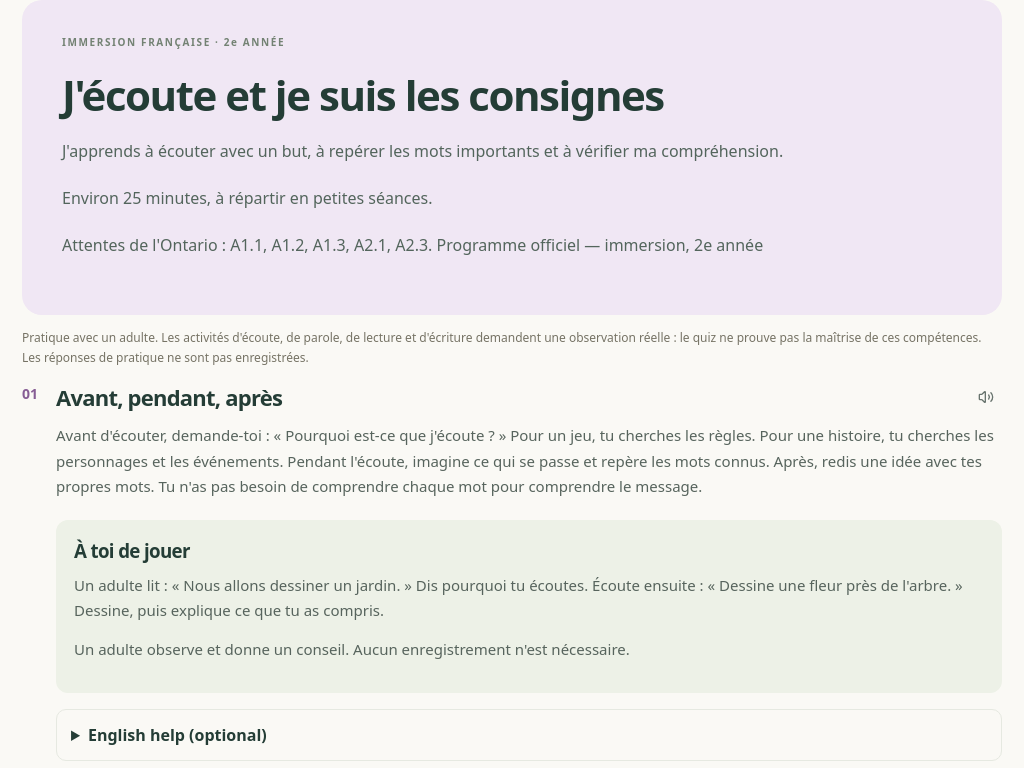
Test: French-first immersion learning › reports a missing French voice rather than silently using an English voice
Click the button named "Écouter :" at (986, 397), box [970, 381, 1002, 413]
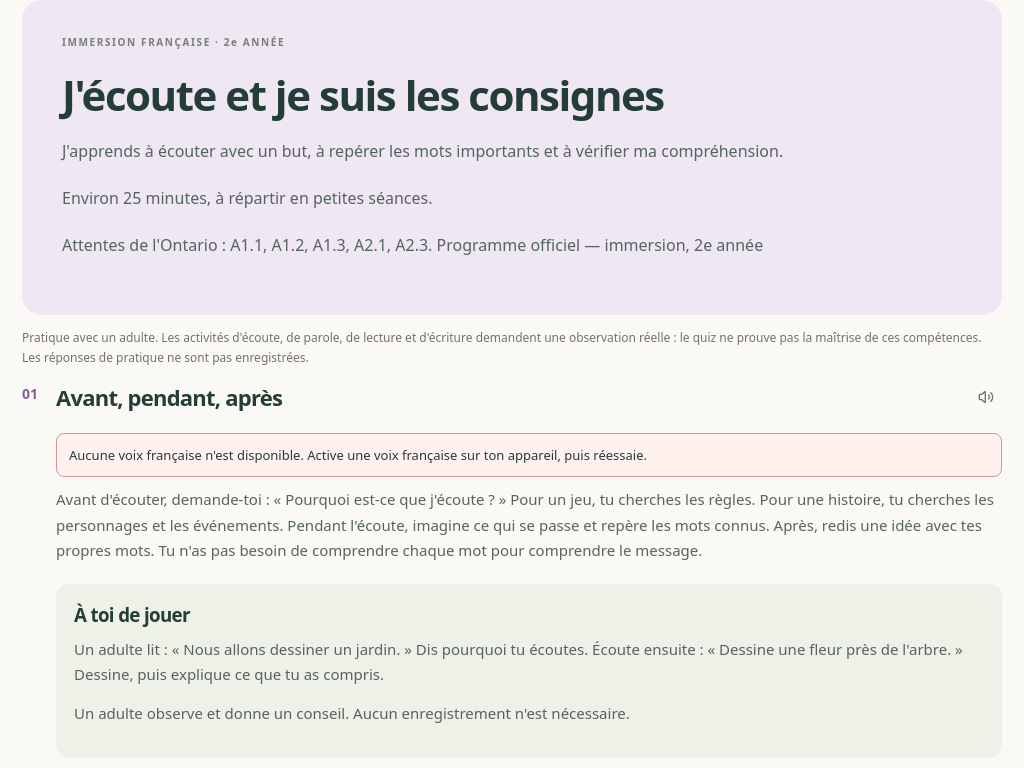
Expected: the message shows "Aucune voix française", [69, 446, 647, 464]
